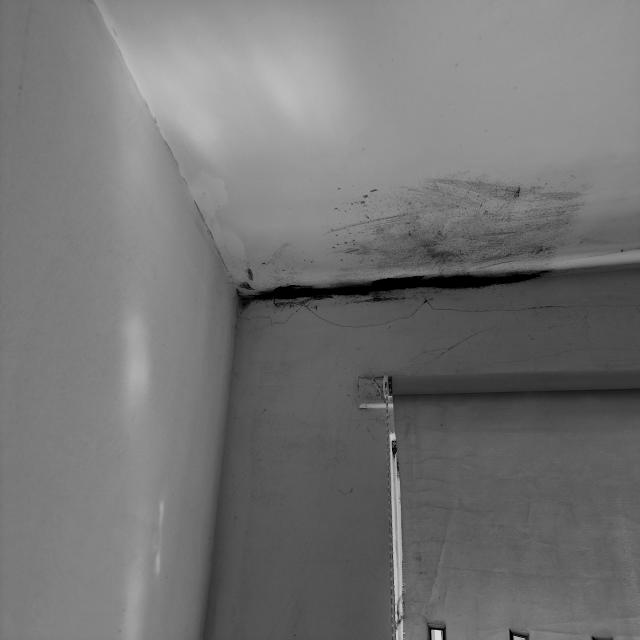stain marks: (206, 166, 640, 328)
